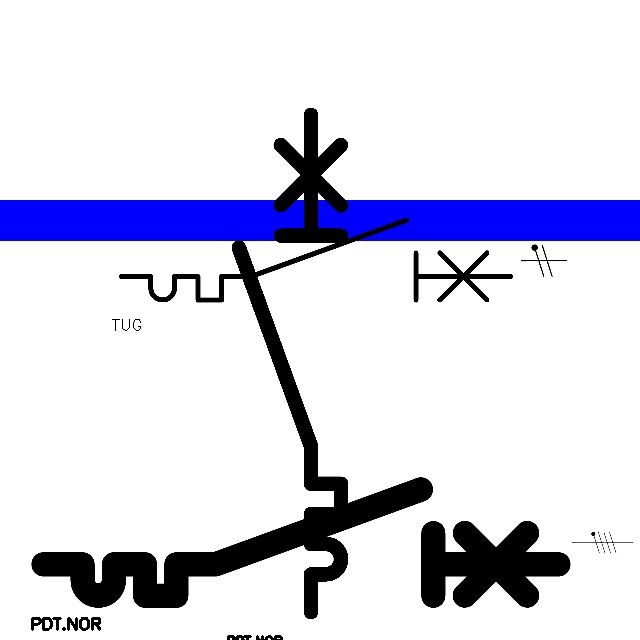interruptor_termomagnetico: (30, 476, 572, 609), (226, 102, 354, 625), (111, 210, 520, 310)
